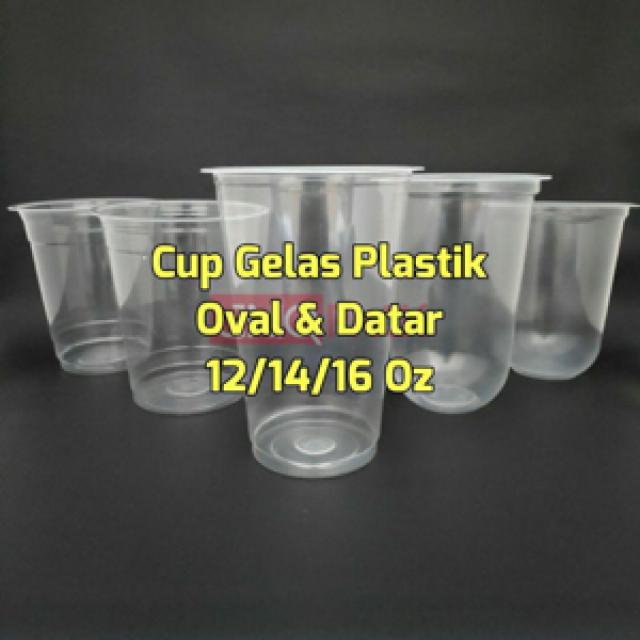plastic cup: (198, 154, 427, 482), (371, 160, 555, 422), (88, 190, 278, 422), (480, 192, 640, 401), (2, 190, 164, 388)
